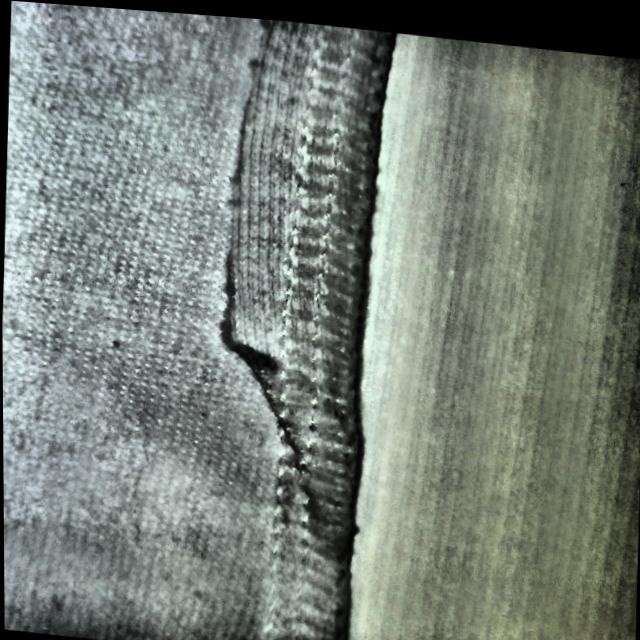seam: (167, 14, 402, 423)
